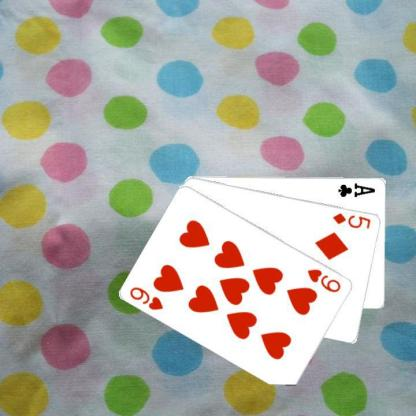5D: (331, 210, 372, 230)
9H: (305, 266, 343, 294), (127, 284, 165, 312)
AC: (336, 180, 376, 198)
